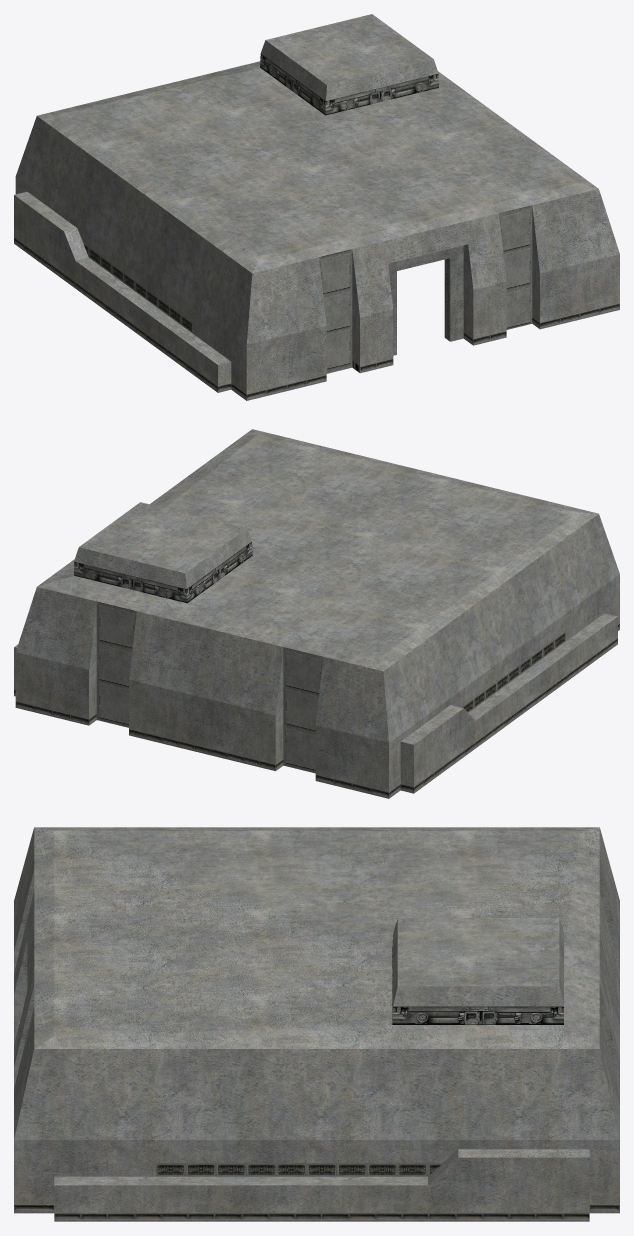
File: mun_all_military_storage_shed_impl_s01_r0_exterior_mesh_exterior_l1.fbx
The picture shows the model from 3 angles, top to bottom: view 1: azimuth 30°, elevation 25°; view 2: azimuth 150°, elevation 25°; view 3: azimuth 270°, elevation 25°; orthographic projection. The views are drawn at different scales.
Parts seen in each view (by area): view 1: mesh_node; view 2: mesh_node; view 3: mesh_node.
Part boxes in pixels (left/top/right/bottom): mesh_node: left=14, top=14, right=619, bottom=400; mesh_node: left=14, top=429, right=619, bottom=798; mesh_node: left=14, top=827, right=619, bottom=1221.
Size of the model in its own units: 15 by 5.5 by 15.
